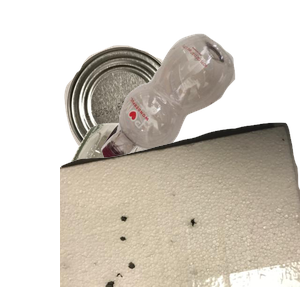glass: (62, 120, 300, 300)
metal: (62, 43, 232, 198)
plastic: (99, 31, 300, 189)
trash: (60, 120, 300, 300)
